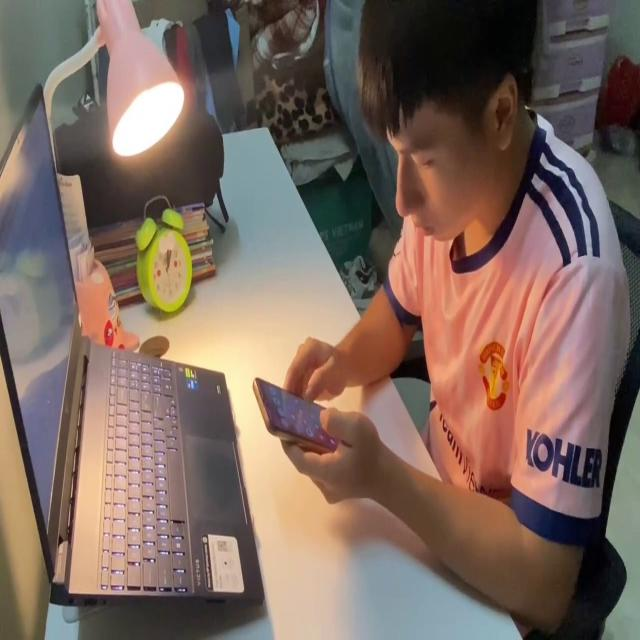laptop: (3, 82, 265, 614)
phone: (251, 367, 344, 455)
student: (279, 0, 630, 640)
